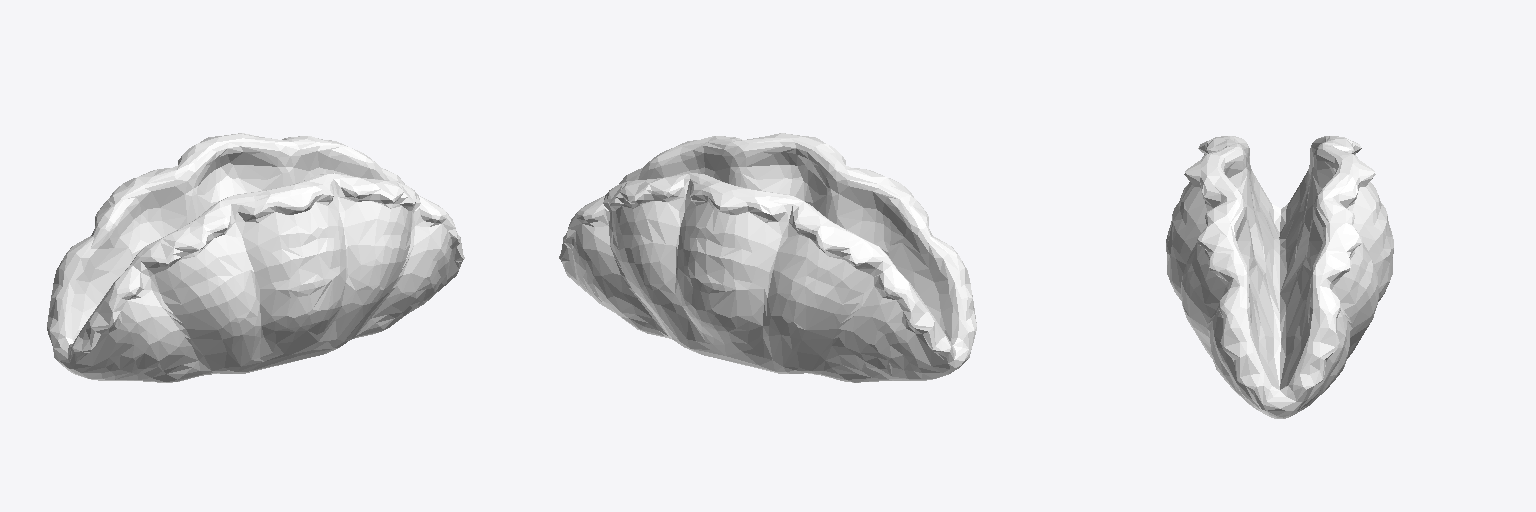
Rendered from GiantClam01.obj.
3 views of the same model, side by side, from view 1: azimuth 30°, elevation 25°; view 2: azimuth 150°, elevation 25°; view 3: azimuth 270°, elevation 25° (orthographic).
Parts seen in each view (by area): view 1: GiantClam; view 2: GiantClam; view 3: GiantClam.
Boxes of the visible parts, x1,y1,x2,y2 form: GiantClam: [47, 133, 464, 382]; GiantClam: [559, 133, 976, 382]; GiantClam: [1166, 136, 1393, 418].
Bounding box in the file's own units: 137 × 61.8 × 69.25.